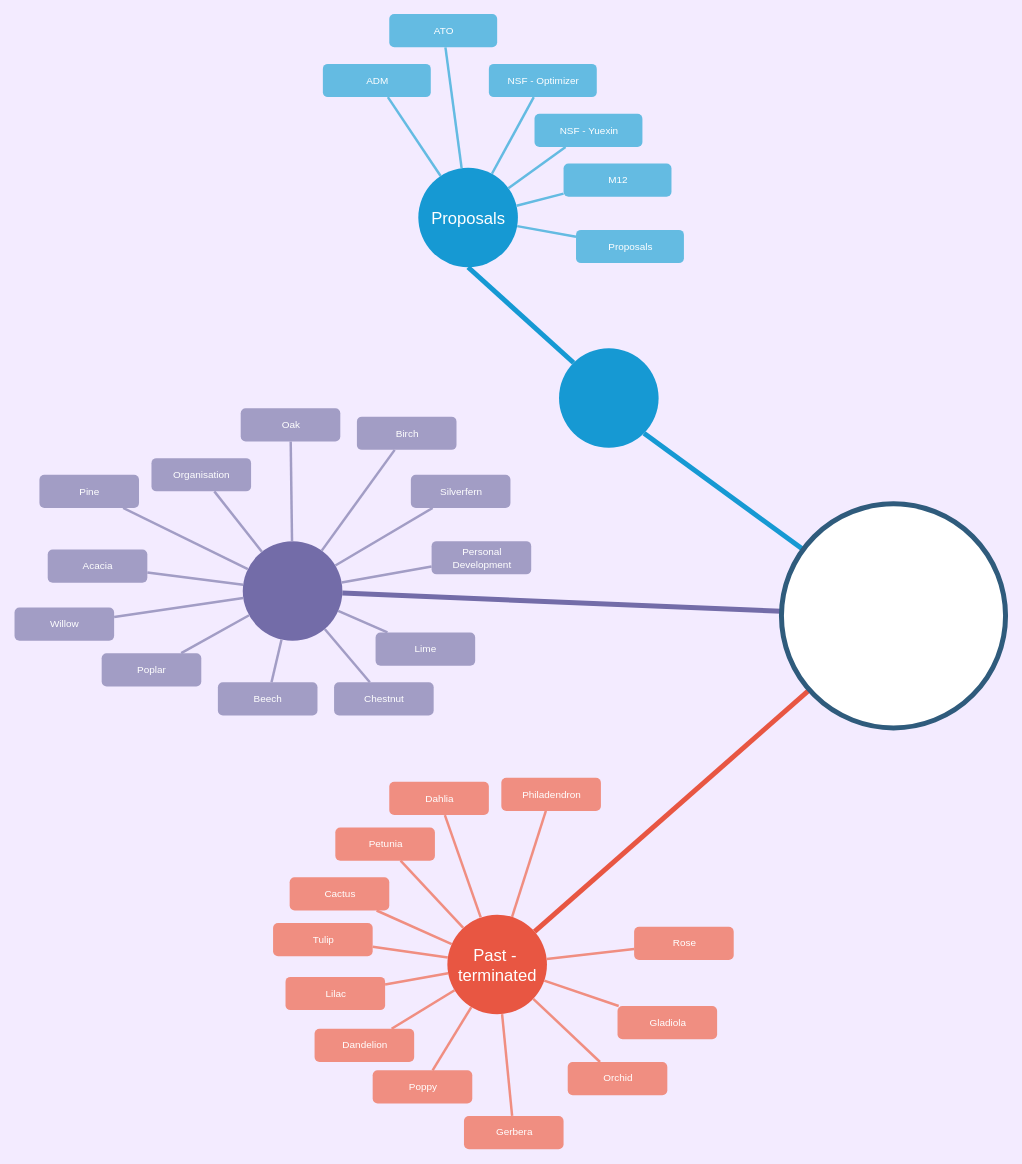
The diagram is 1022 pixels wide and 1164 high, and some of its shapes have lost their labels. The shapes that lost their labels are listed below. From the top down, each one's centre as x and y in pixels, then its label:
At [608,397]: "New 2023".
At [292,590]: "Continue 2023".
At [893,615]: "Projects".
